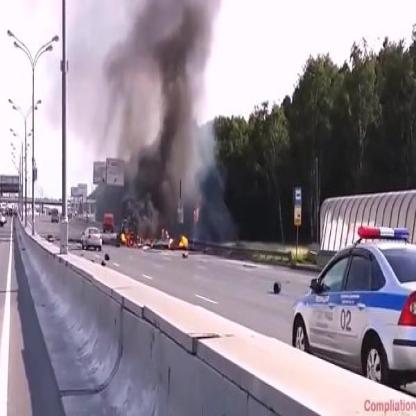fire: (119, 229, 137, 246), (162, 228, 174, 250), (176, 233, 191, 249)
